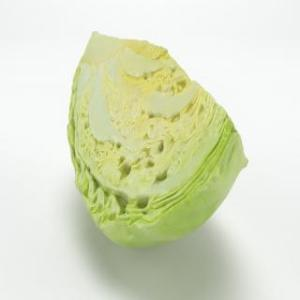cabbage: (66, 29, 249, 249)
